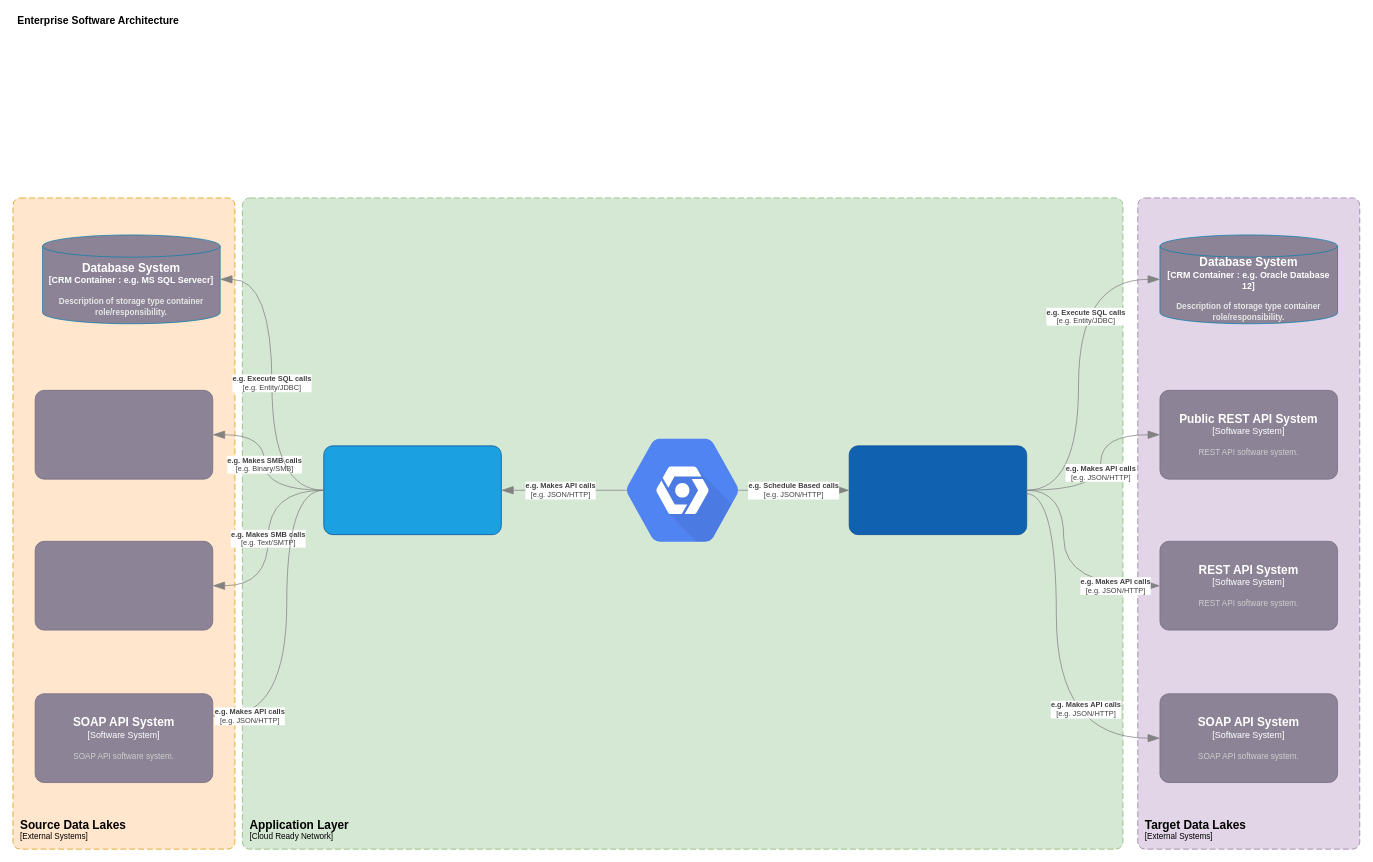
The diagram is 1373 pixels wide and 862 high, and some of its shapes have lost their labels. Here are the shapes that lost their labels. From the top down, the centre of each, then its label:
pixel 123 434: FTP System [Software System] FTP software system.
pixel 412 490: Data Provider [Software System] Data Provider system.
pixel 682 489: Stream-Listener Plugin
pixel 937 490: Consumer/Subscriber [Software System] Migration Event Consumer system.
pixel 123 585: Mail Exchange System [Software System] Mail Exchange software system.
